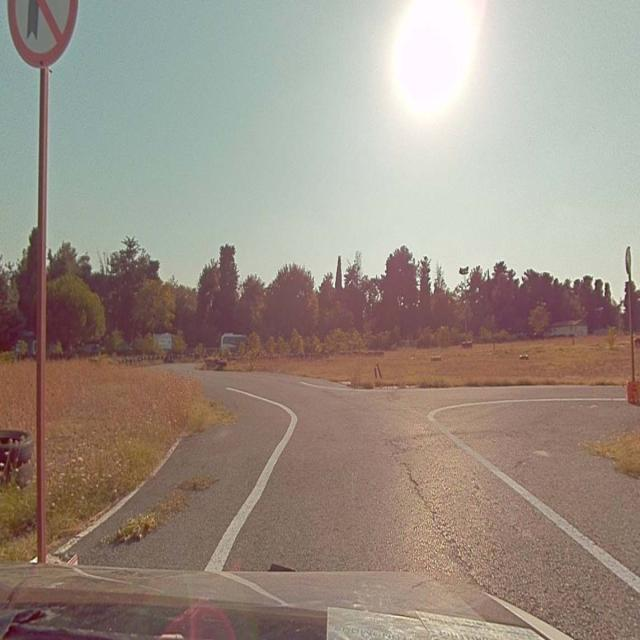sagadonulmez: (6, 1, 78, 67)
